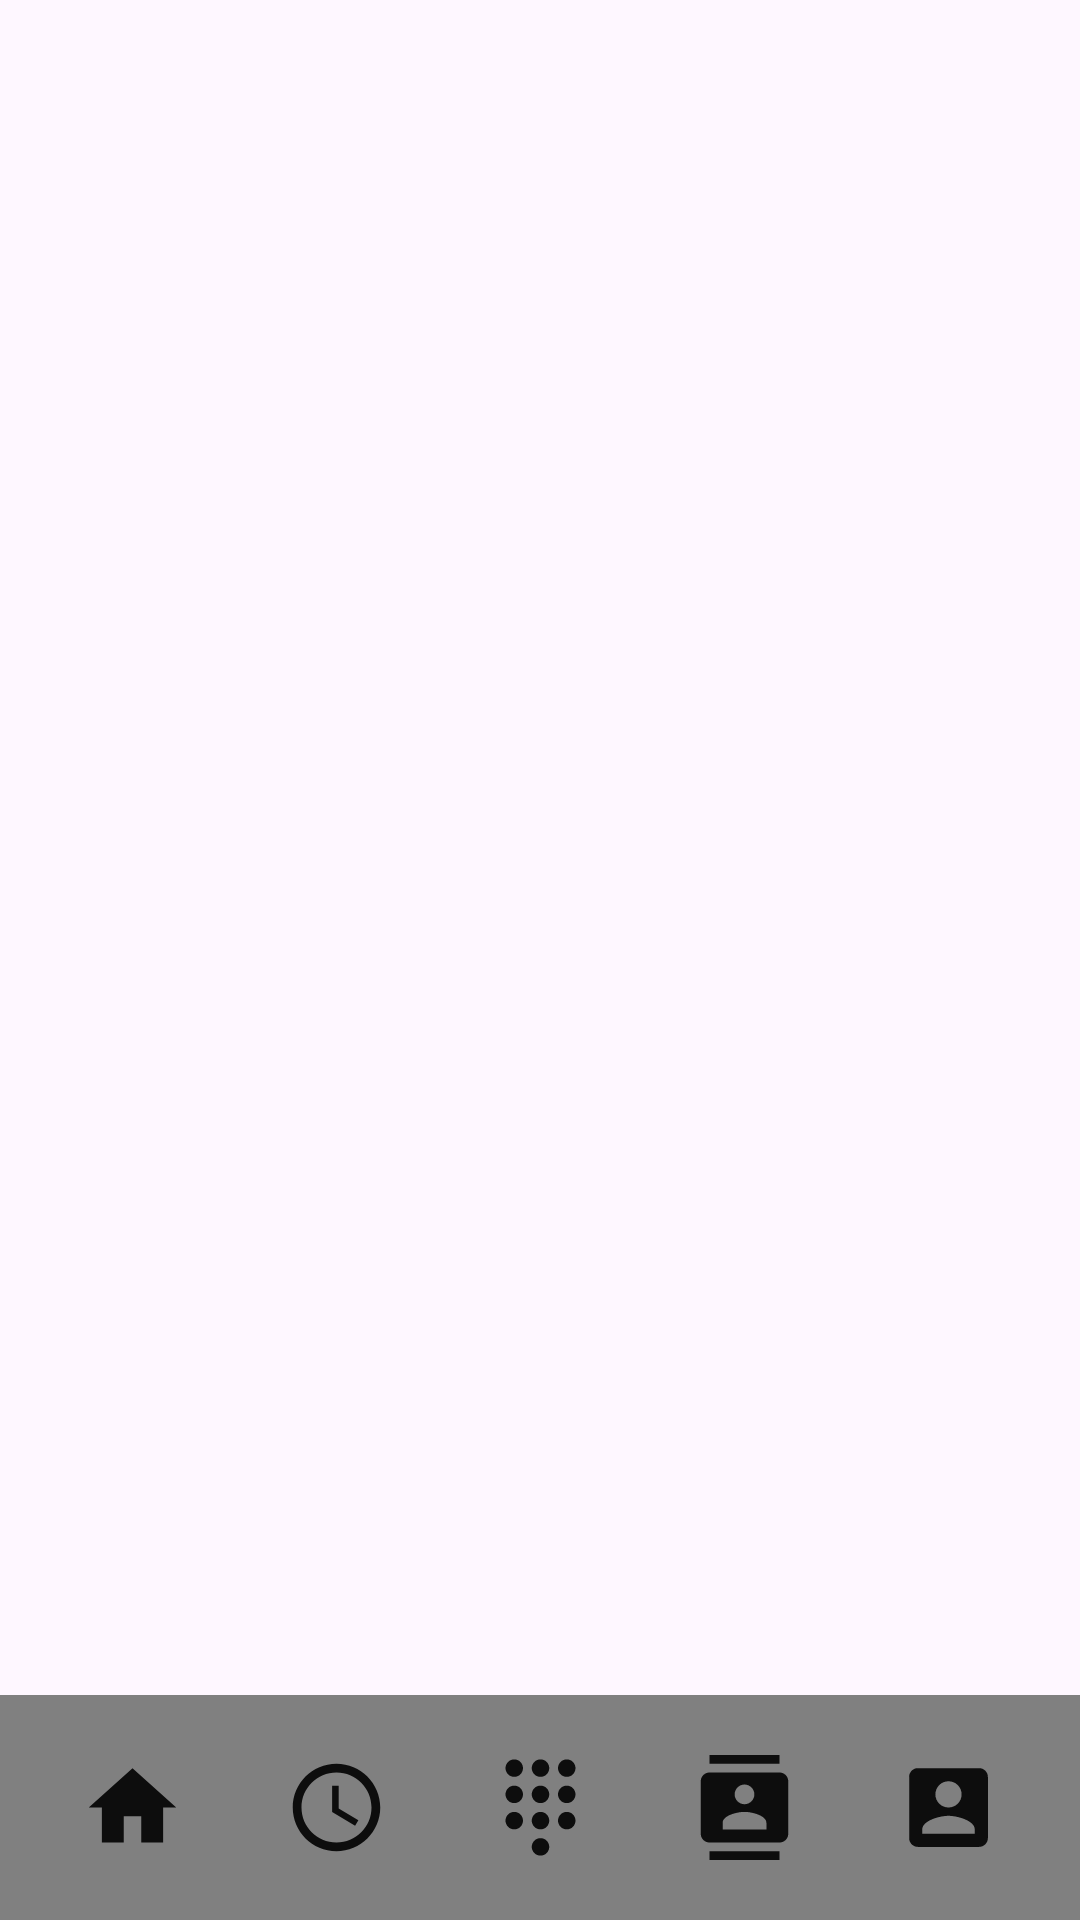

Icons on this 1080 x 1920 Android screen, each with the point to tap as (x,y):
Contact: (744,1807)
Dialpad: (540,1807)
Home: (132,1805)
Profile: (948,1807)
Recent: (336,1807)
